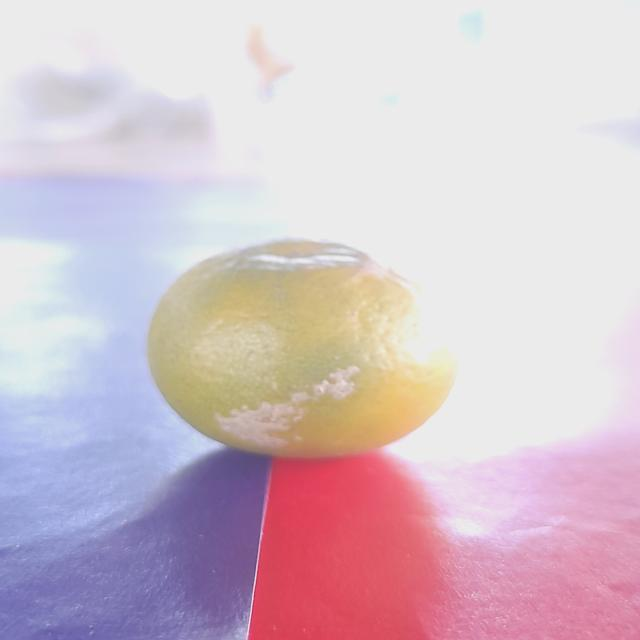thrips: (128, 221, 478, 461)
